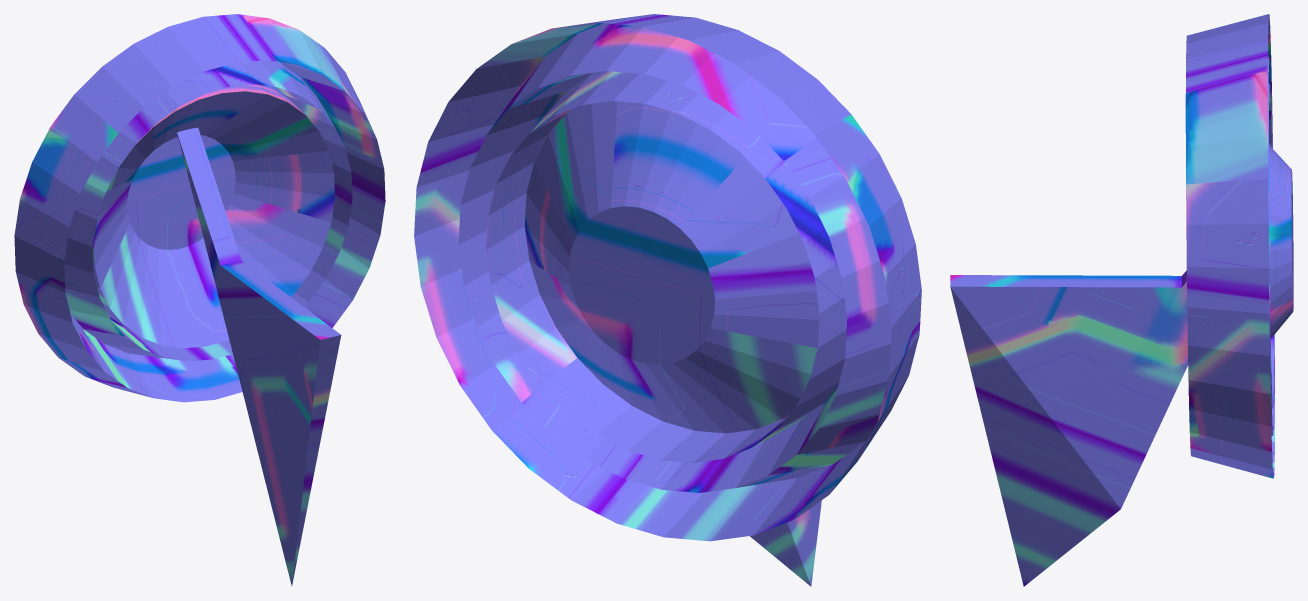
File: radar10.obj
3 views of the same model, side by side, from view 1: azimuth 30°, elevation 25°; view 2: azimuth 150°, elevation 25°; view 3: azimuth 270°, elevation 25° (orthographic). The views are drawn at different scales.
Parts seen in each view (by area): view 1: radar; view 2: radar; view 3: radar.
Boxes of the visible parts, bbox=[...] form: radar: bbox=[14, 14, 385, 586]; radar: bbox=[414, 14, 921, 586]; radar: bbox=[950, 14, 1293, 586].
Bounding box in the file's own units: 0.9879 × 1.3 × 0.7276.
